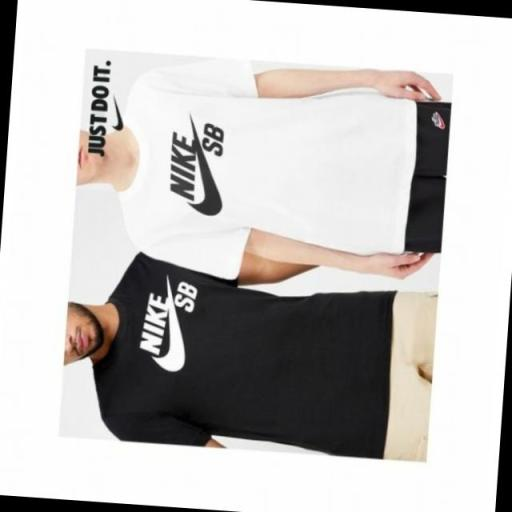Nike: (159, 282, 192, 372), (166, 130, 199, 200)
